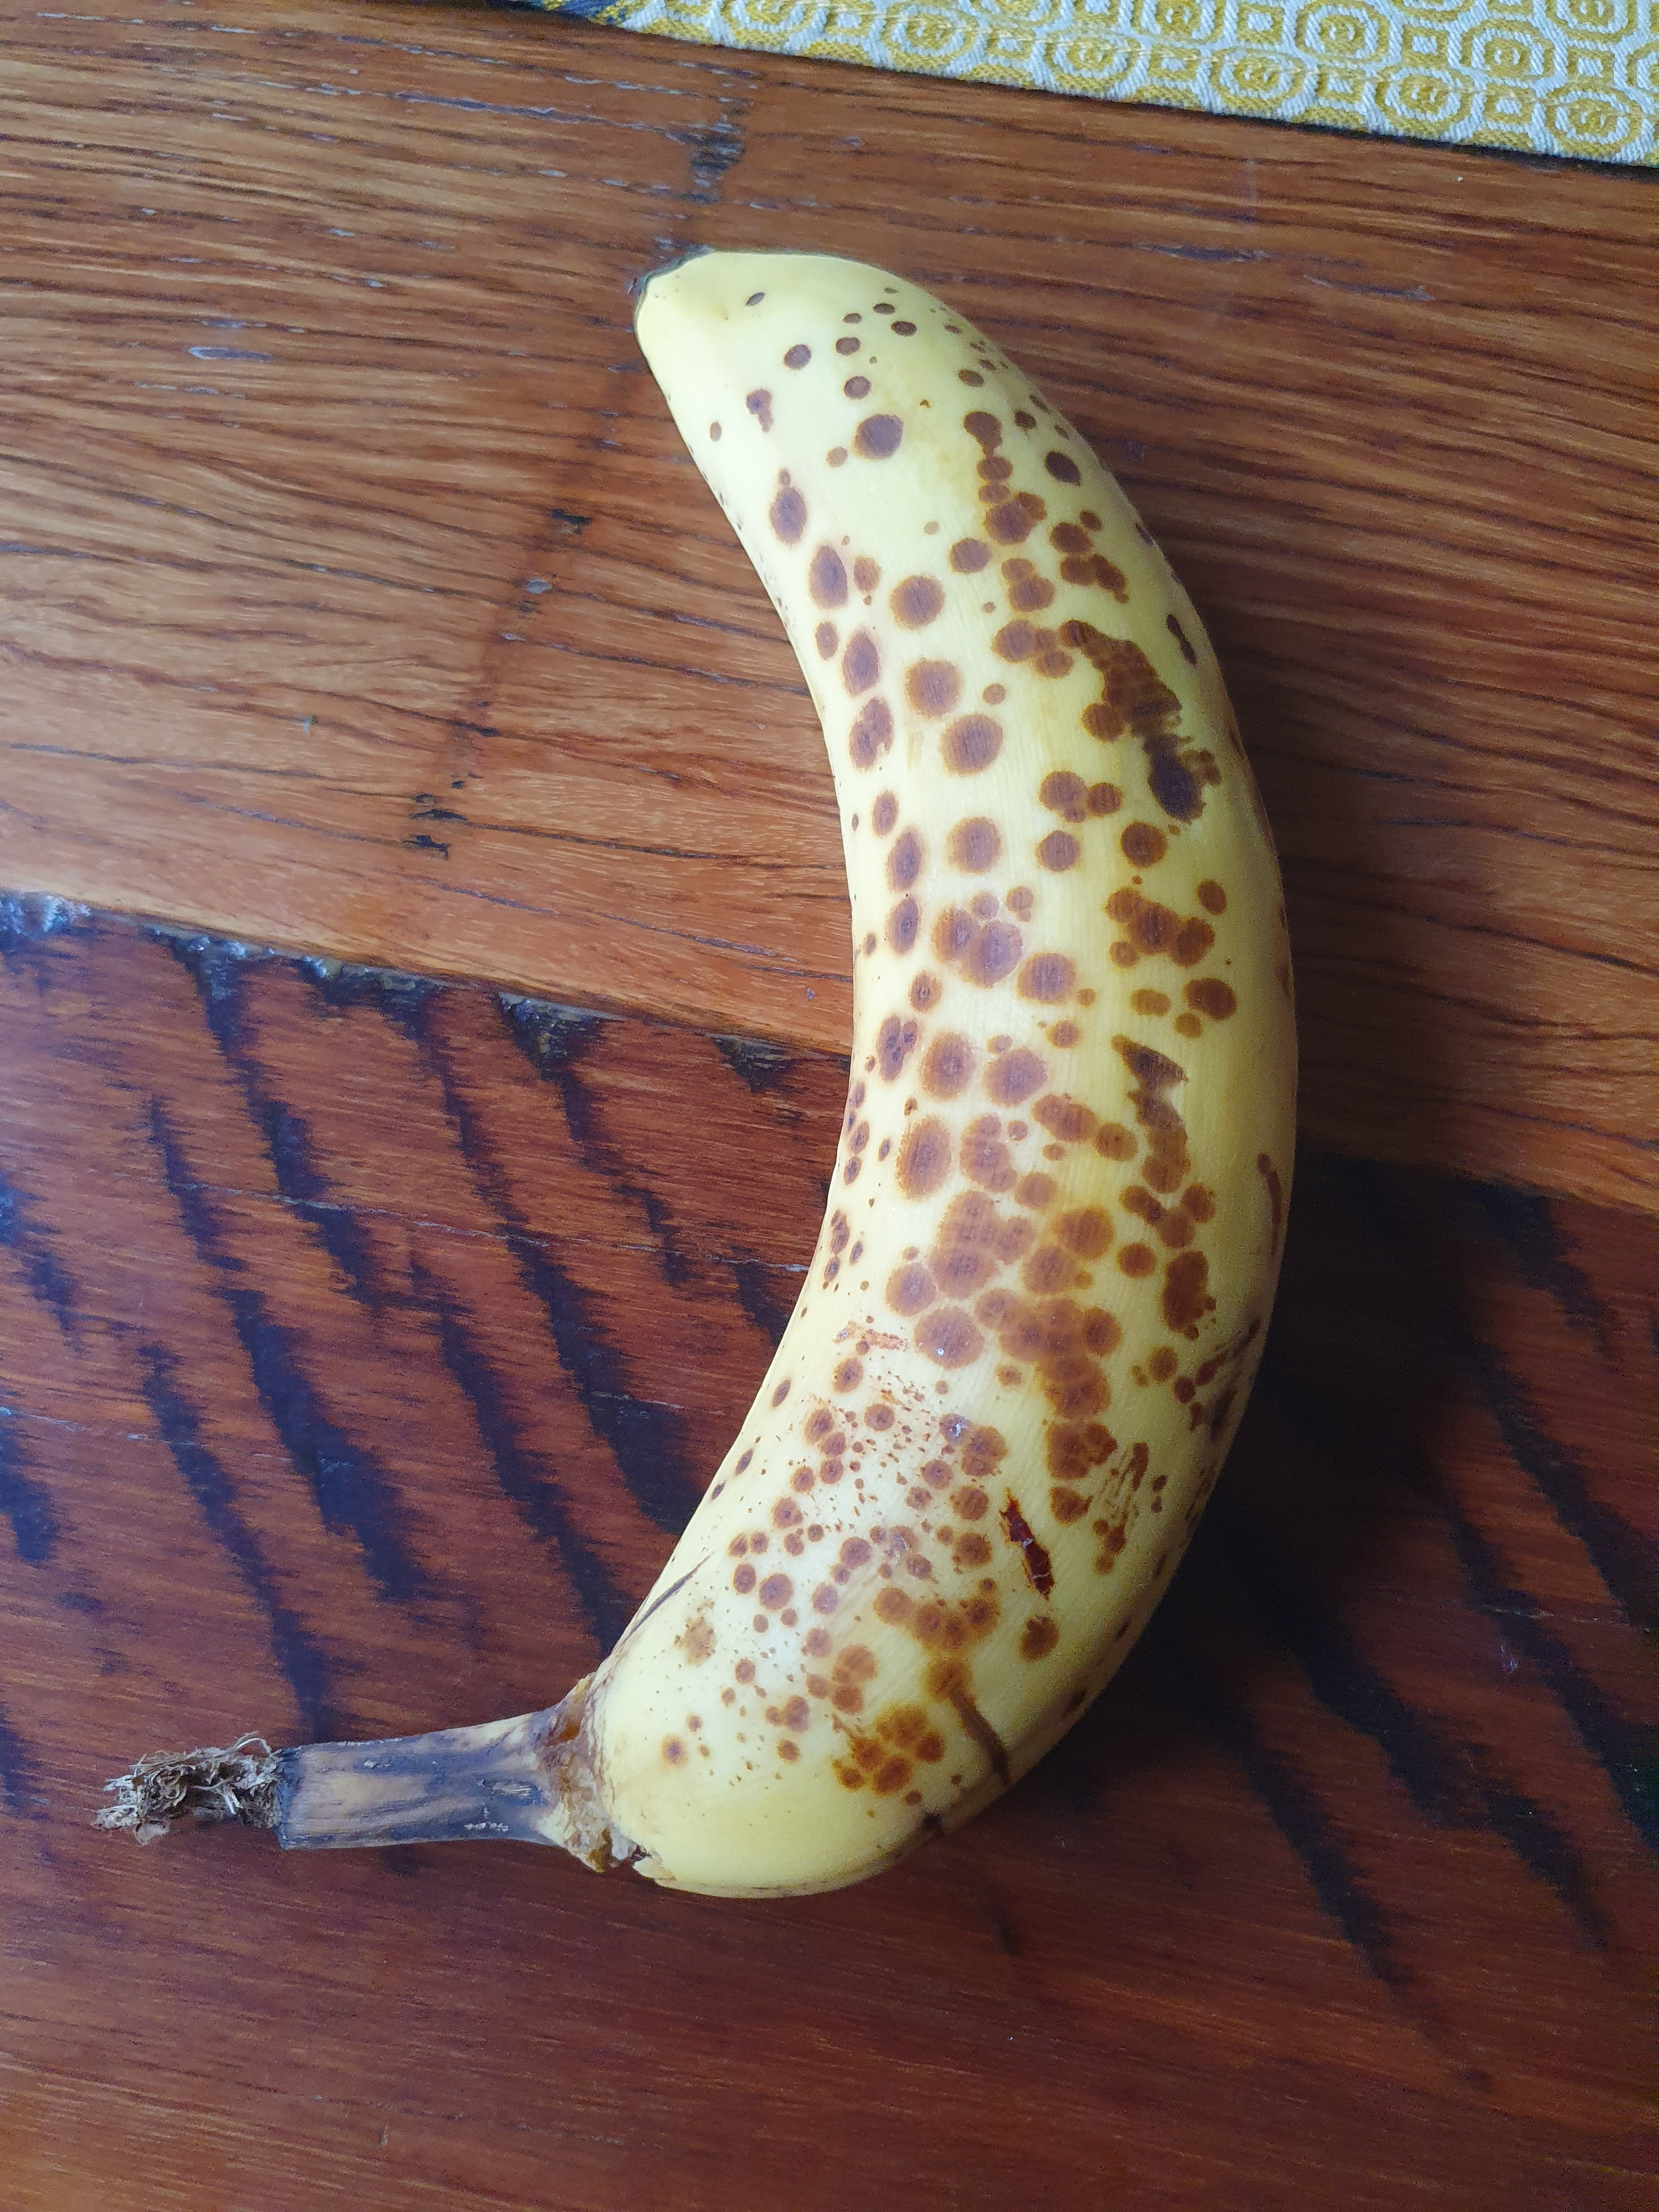banana: (28, 216, 1340, 1949)
